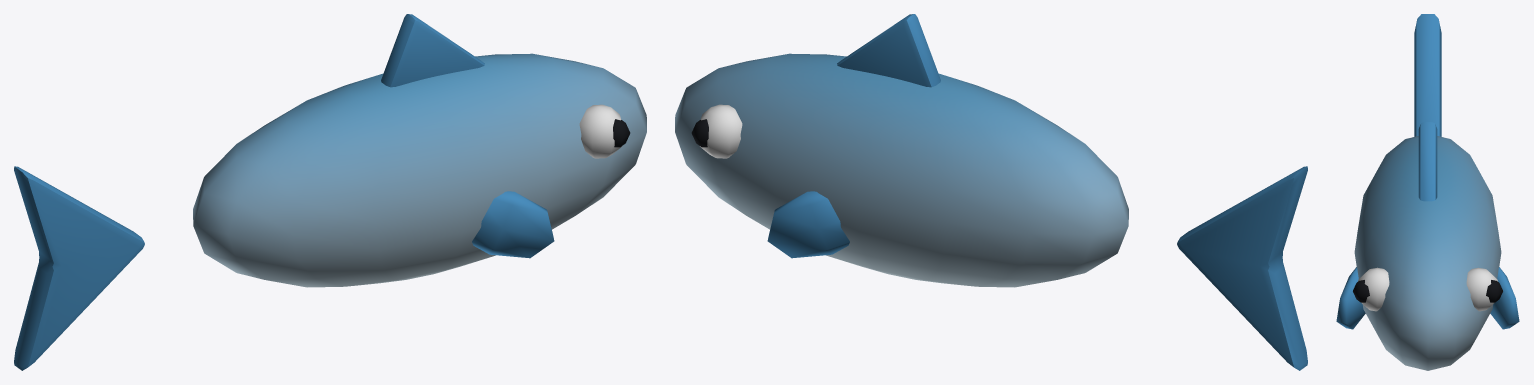
Rendered from fish.glb.
The picture shows the model from 3 angles, left to right: view 1: azimuth 30°, elevation 25°; view 2: azimuth 150°, elevation 25°; view 3: azimuth 270°, elevation 25°; orthographic projection. The views are drawn at different scales.
Parts seen in each view (by area): view 1: fish; view 2: fish; view 3: fish.
Part boxes in pixels (x1,y1,x2,y2): fish: (14, 14, 646, 370); fish: (675, 14, 1307, 370); fish: (1336, 14, 1519, 370).
Bounding box in the file's own units: 0.6377 × 0.2487 × 0.1994.
